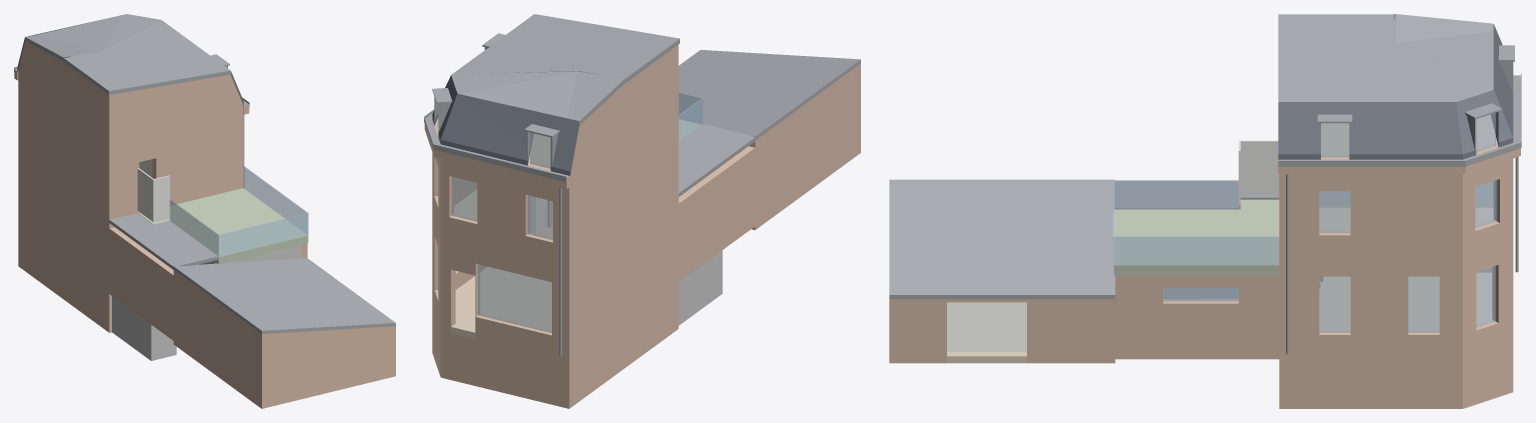
File: maison 24-11.gltf
3 views of the same model, side by side, from view 1: azimuth 30°, elevation 25°; view 2: azimuth 150°, elevation 25°; view 3: azimuth 270°, elevation 25° (orthographic). The views are drawn at different scales.
Parts seen in each view (by area): view 1: 1-toiture-garage, 0I, 2C, 1C, 0H, T-pan-cote-b, 0D, 1-terrasse-projet, 1D, 2D, 0E, 1-terrasse-projet-garde-corps (+10 smaller); view 2: 1-toiture-garage, 0H, 0D, T-pan-cote-b, 1D, 1A, 2D, 0E, 0A, SA, T-brisis-cote-a, SD (+24 smaller); view 3: 1-toiture-garage, 1B, 0B, 0F, T-pan-cote-b, 1-terrasse-projet, 0J, SB, T-brisis-cote-b, 1-terrasse-projet-garde-corps, 0-garage, 0-salon (+28 smaller).
Part boxes in pixels (x1,y1,x2,y2): 1-toiture-garage: (173, 258, 395, 334); 0I: (262, 326, 395, 408); 2C: (109, 74, 243, 159); 1C: (109, 127, 243, 219); 0H: (173, 270, 261, 408); T-pan-cote-b: (63, 20, 230, 94); 0D: (18, 156, 109, 293); 1-terrasse-projet: (139, 188, 308, 263); 1D: (18, 93, 109, 222); 2D: (18, 41, 109, 158); 0E: (109, 227, 173, 340); 1-terrasse-projet-garde-corps: (169, 166, 308, 256); 1-toiture-garage: (678, 50, 860, 139); 0H: (749, 63, 860, 229); 0D: (569, 197, 678, 361); T-pan-cote-b: (452, 14, 679, 83); 1D: (569, 121, 678, 276); 1A: (440, 170, 569, 277); 2D: (569, 45, 678, 200); 0E: (678, 146, 755, 281); 0A: (440, 246, 569, 362); SA: (440, 331, 569, 408); T-brisis-cote-a: (440, 93, 579, 175); SD: (569, 282, 678, 408); 1-toiture-garage: (889, 179, 1115, 299); 1B: (1279, 187, 1462, 268); 0B: (1279, 268, 1462, 359); 0F: (1115, 275, 1279, 359); T-pan-cote-b: (1278, 14, 1454, 101); 1-terrasse-projet: (1114, 199, 1279, 275); 0J: (889, 299, 1115, 363); SB: (1279, 359, 1462, 408); T-brisis-cote-b: (1278, 102, 1462, 159); 1-terrasse-projet-garde-corps: (1113, 180, 1279, 265); 0-garage: (947, 302, 1026, 351); 0-salon: (1319, 273, 1491, 330).
Size of what is drawn, in the model's own units: 6.62 by 11.02 by 20.13.
